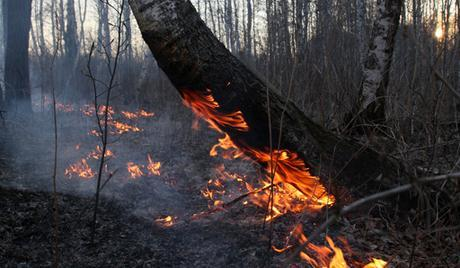fire: (253, 145, 333, 221), (189, 96, 241, 150), (299, 237, 345, 268), (113, 106, 151, 133), (200, 172, 231, 203), (126, 157, 161, 175), (68, 158, 93, 177), (366, 259, 388, 268), (163, 217, 175, 227)
